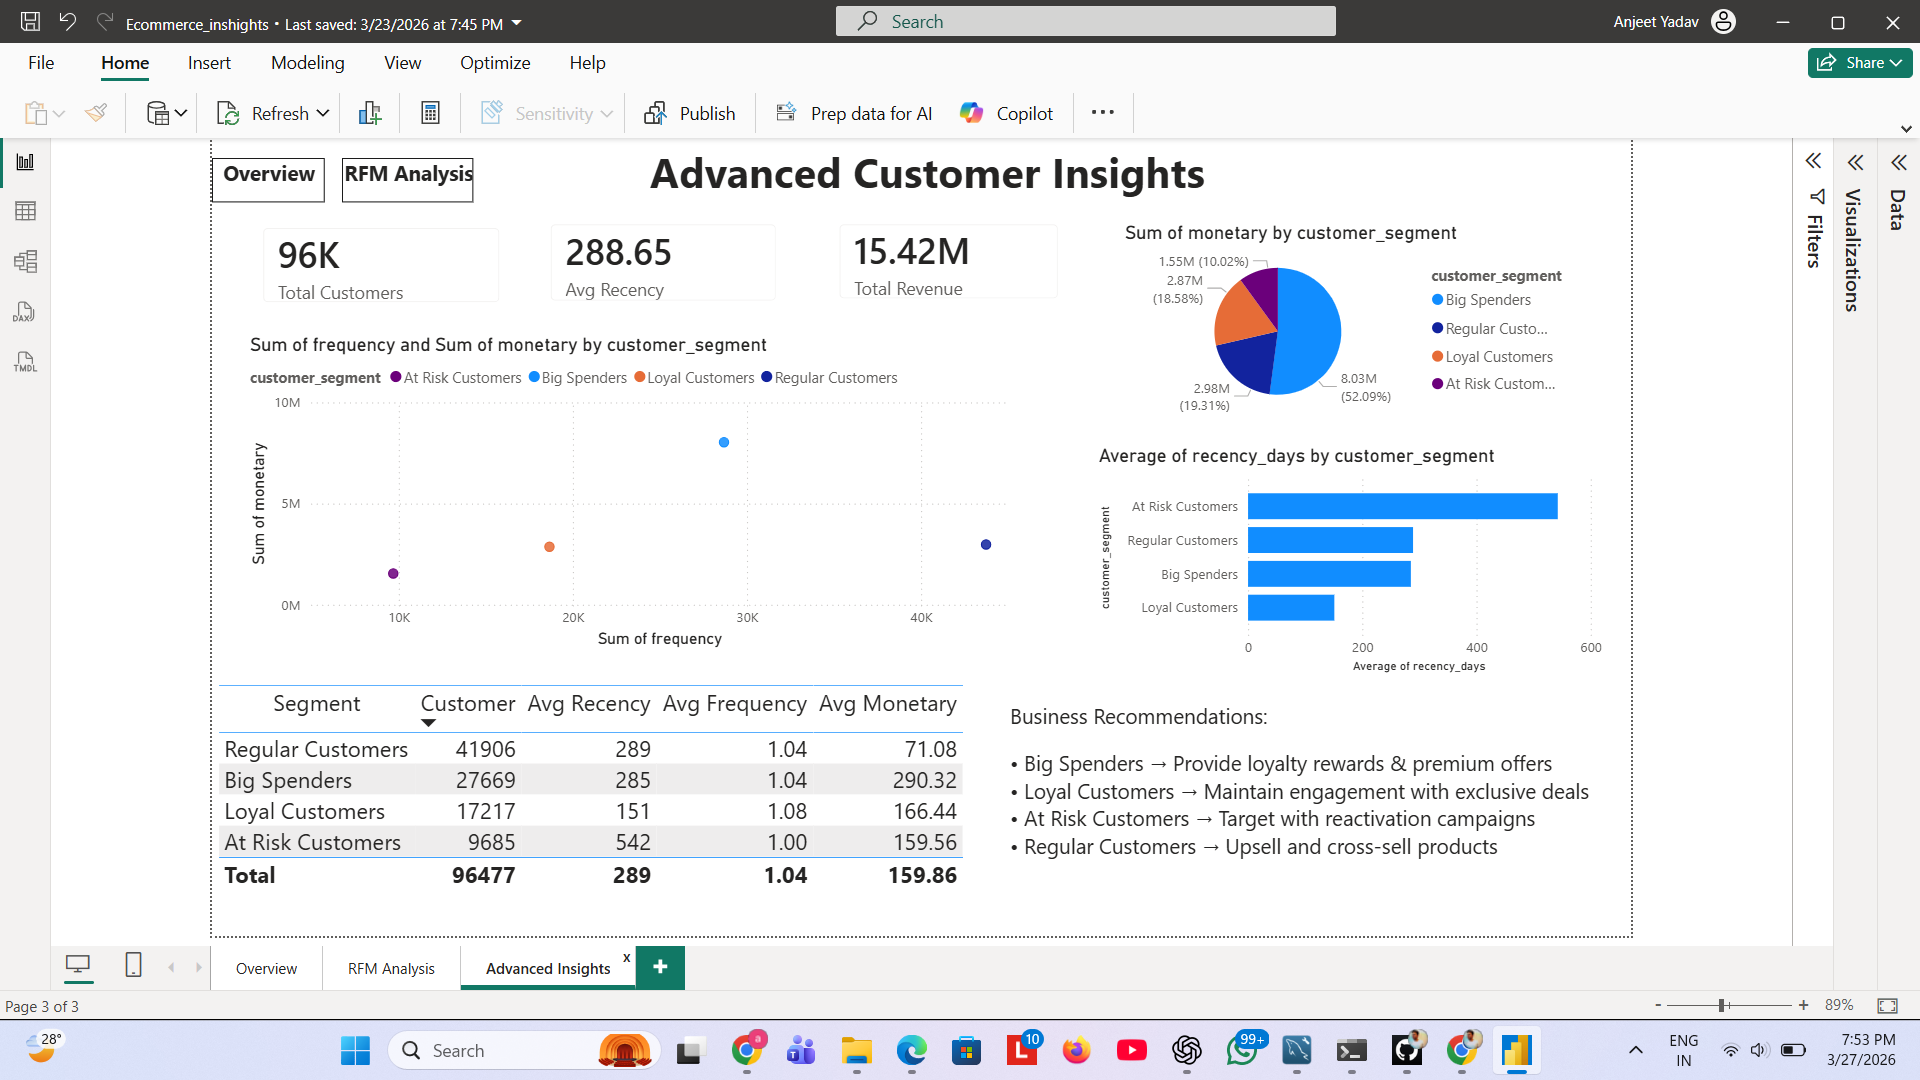

Layout of this report page (visuals, bound fields, positions):
{"tool":"powerbi","page":{"name":"Advanced Insights","canvas":[1280,720],"ordinal":2},"visuals":[{"type":"textbox","box":[10,0,1270,75],"z":0},{"type":"scatterChart","fields":{"Series":["rfm_customer_segments.customer_segment"],"X":["Sum(rfm_customer_segments.frequency)"],"Y":["Sum(rfm_customer_segments.monetary)"]},"box":[28.8,176.2,703.8,288.8],"z":1000},{"type":"cardVisual","fields":{"Data":["rfm_customer_segments.Total Customers"]},"box":[28.8,63.8,247.5,101.2],"z":2000},{"type":"cardVisual","fields":{"Data":["rfm_customer_segments.Avg Recency"]},"box":[288.8,61.2,237.5,103.8],"z":3000},{"type":"pieChart","fields":{"Category":["rfm_customer_segments.customer_segment"],"Y":["Sum(rfm_customer_segments.monetary)"]},"box":[818.8,75,420,178.8],"z":4000},{"type":"cardVisual","fields":{"Data":["rfm_customer_segments.Total Revenue"]},"box":[548.8,61.2,231.2,101.2],"z":5000},{"type":"barChart","fields":{"Category":["rfm_customer_segments.customer_segment"],"Y":["Avg(rfm_customer_segments.recency_days)"]},"box":[795,276.2,463.8,211.2],"z":6000},{"type":"textbox","box":[715,503.8,565,207.5],"z":7000},{"type":"tableEx","fields":{"Values":["rfm_customer_segments.customer_segment","rfm_customer_segments.customer_id","Avg(rfm_customer_segments.recency_days)","Avg(rfm_customer_segments.frequency)","Avg(rfm_customer_segments.monetary)"]},"box":[0,487.5,685,205],"z":8000},{"type":"actionButton","title":"Overview","box":[0,17.5,101.2,40],"z":9000},{"type":"actionButton","title":"RFM Analysis","box":[117.5,17.5,118.8,40],"z":10000}]}

Visuals, with their boxes on the page's 1280x720 design canvas (x1, y1, x2, y2). These are canvas units, not pixel positions in the 1920x1080 screenshot, which may show the page scaled, cropped or inside an application window:
textbox: locate(10, 0, 1280, 75)
scatterChart - rfm_customer_segments.customer_segment x Sum(rfm_customer_segments.frequency): locate(29, 176, 733, 465)
cardVisual - rfm_customer_segments.Total Customers: locate(29, 64, 276, 165)
cardVisual - rfm_customer_segments.Avg Recency: locate(289, 61, 526, 165)
pieChart - rfm_customer_segments.customer_segment x Sum(rfm_customer_segments.monetary): locate(819, 75, 1239, 254)
cardVisual - rfm_customer_segments.Total Revenue: locate(549, 61, 780, 162)
barChart - rfm_customer_segments.customer_segment x Avg(rfm_customer_segments.recency_days): locate(795, 276, 1259, 487)
textbox: locate(715, 504, 1280, 711)
tableEx - rfm_customer_segments.customer_segment x rfm_customer_segments.customer_id: locate(0, 488, 685, 692)
"Overview" actionButton: locate(0, 18, 101, 58)
"RFM Analysis" actionButton: locate(118, 18, 236, 58)
